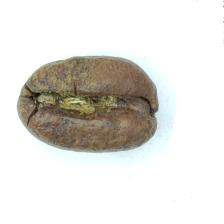NG: (28, 61, 140, 135)
